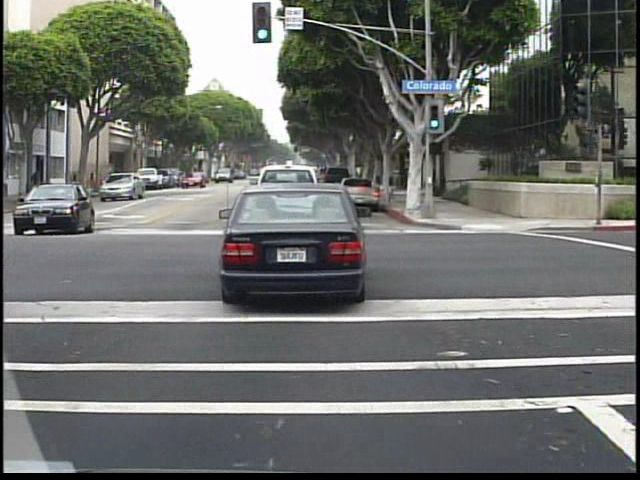person: (25, 168, 45, 207)
